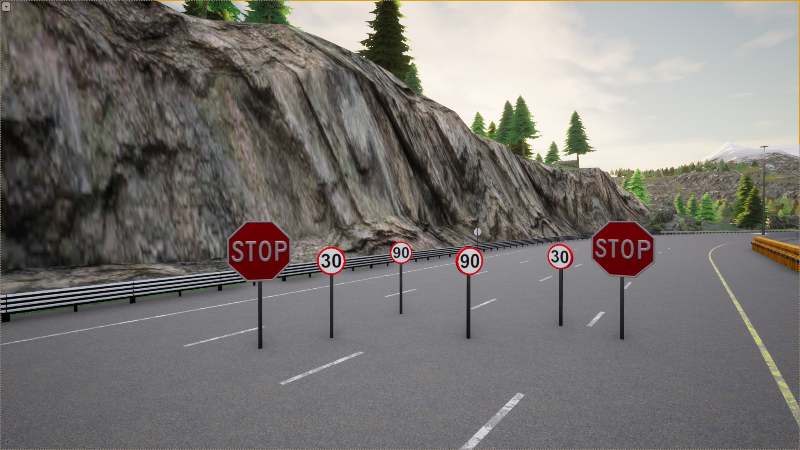fast: (455, 246, 484, 276), (390, 240, 412, 265)
slow: (316, 246, 347, 277), (548, 244, 574, 270)
stop: (227, 221, 292, 281), (590, 220, 655, 278)
